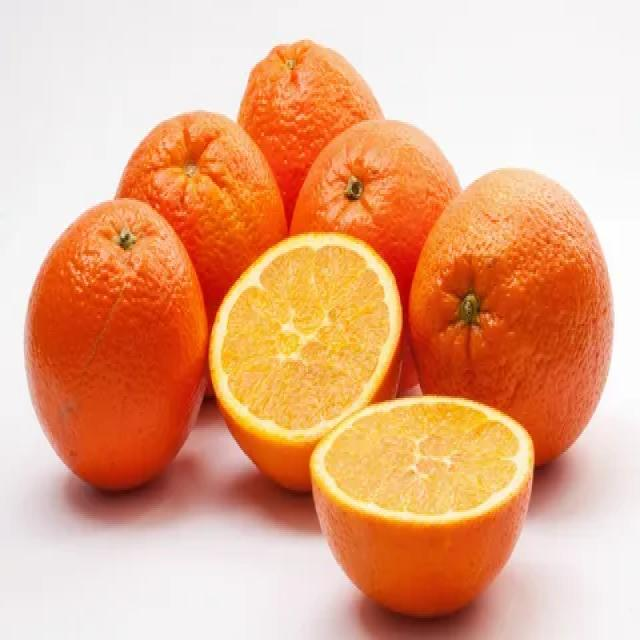orange: (407, 162, 615, 478), (28, 198, 204, 491)
